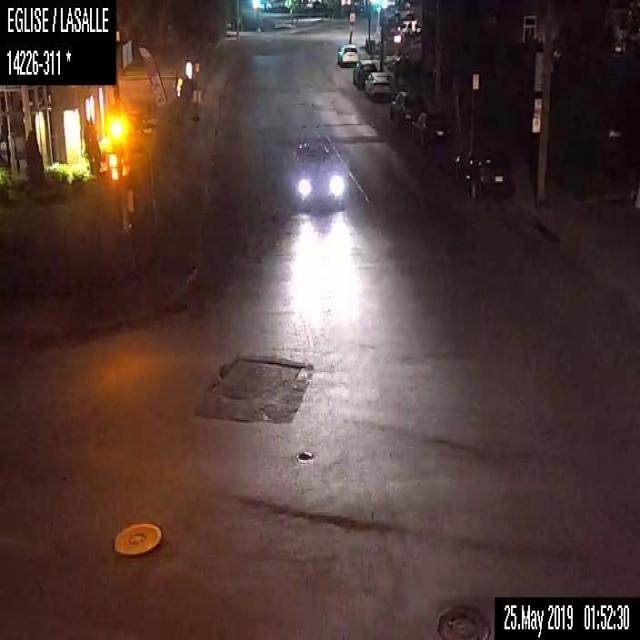vehicle: (289, 135, 346, 205), (450, 145, 509, 200), (407, 108, 451, 152), (390, 89, 422, 123), (363, 69, 395, 99), (352, 58, 376, 88), (338, 42, 360, 66)
